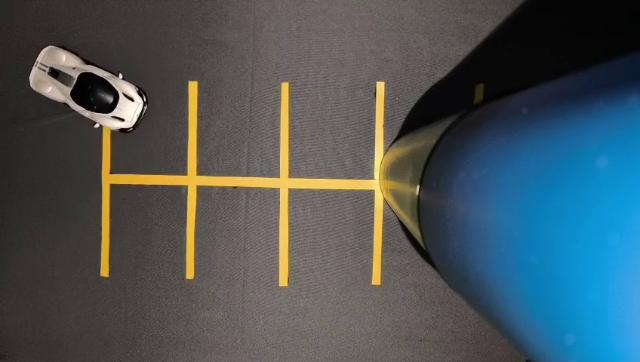toy_car: (18, 32, 161, 157)
